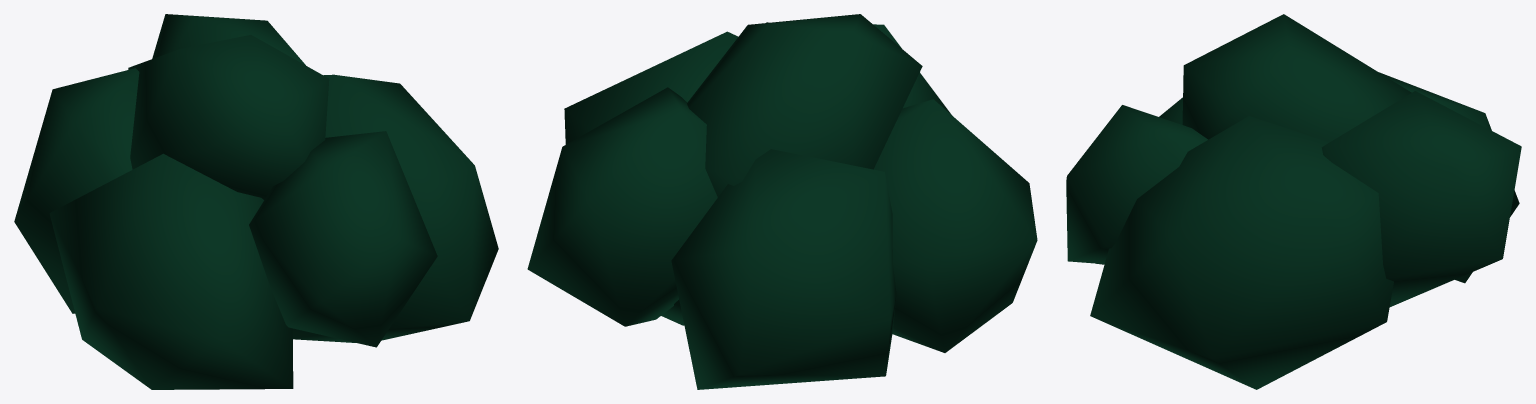
File: bush_02.fbx
3 renders of one model, left to right at view 1: azimuth 30°, elevation 25°; view 2: azimuth 150°, elevation 25°; view 3: azimuth 270°, elevation 25°, orthographic. The views are drawn at different scales.
Parts seen in each view (by area): view 1: GeoSphere001; view 2: GeoSphere001; view 3: GeoSphere001.
Part boxes in pixels (left/top/right/bottom): GeoSphere001: left=14, top=14, right=498, bottom=389; GeoSphere001: left=527, top=14, right=1037, bottom=389; GeoSphere001: left=1066, top=14, right=1521, bottom=389.
Size of the model in its own units: 71.3 by 54.43 by 75.25.
